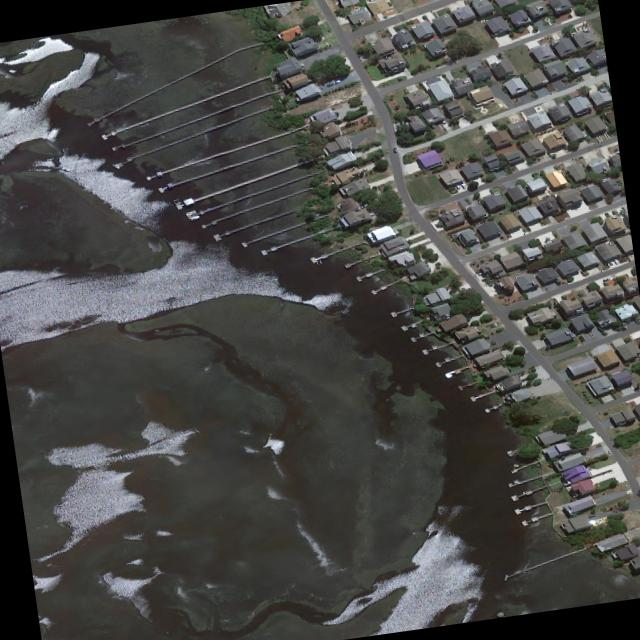ship: (61, 165, 72, 171), (190, 214, 201, 220), (114, 163, 122, 168)
small-vehicle: (586, 512, 596, 518), (460, 181, 468, 188), (333, 79, 342, 83), (603, 276, 610, 281), (361, 203, 369, 207), (614, 258, 619, 264), (393, 146, 397, 153), (361, 167, 368, 171), (326, 82, 333, 86), (608, 259, 613, 264), (455, 184, 461, 188)
